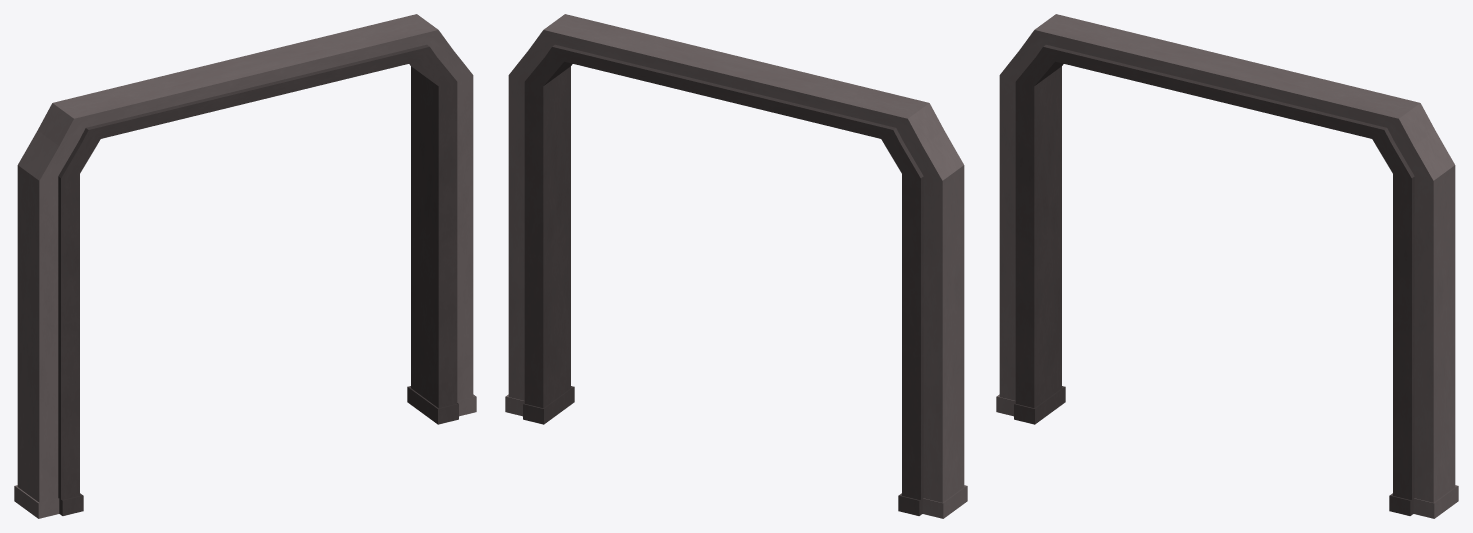
Rendered from DoorFrame.glb.
3 views of the same model, side by side, from view 1: azimuth 30°, elevation 25°; view 2: azimuth 150°, elevation 25°; view 3: azimuth 330°, elevation 25° (orthographic).
Visible parts, largest first — view 1: DoorFrame; view 2: DoorFrame; view 3: DoorFrame.
Boxes of the visible parts, x1,y1,x2,y2 form: DoorFrame: (14, 14, 476, 518); DoorFrame: (505, 14, 967, 518); DoorFrame: (996, 14, 1458, 518).
Bounding box in the file's own units: 6.99 × 5.95 × 0.8456.
Materials: 1 (1 with a texture image).
